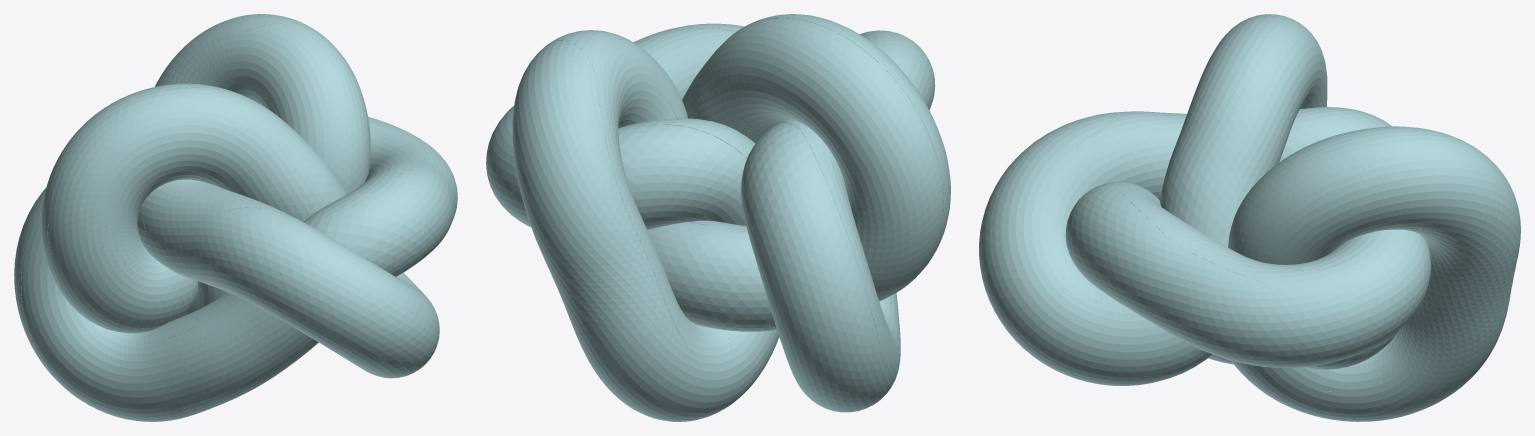
The model's file is gem_168231261.gltf.
3 views of the same model, side by side, from view 1: azimuth 30°, elevation 25°; view 2: azimuth 150°, elevation 25°; view 3: azimuth 270°, elevation 25° (orthographic). The views are drawn at different scales.
Bounding box in the file's own units: 1.35 × 1.09 × 1.5.
